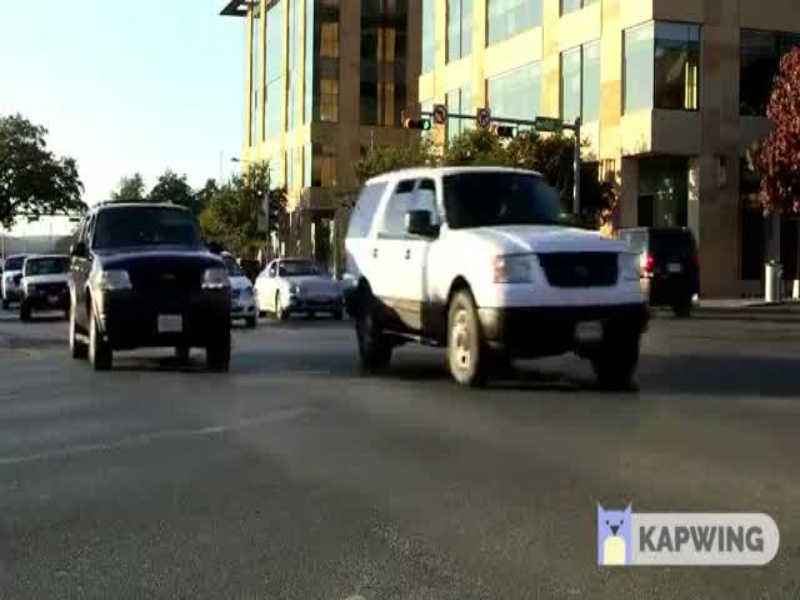car: (327, 164, 654, 405), (62, 188, 240, 379), (256, 254, 345, 326)
